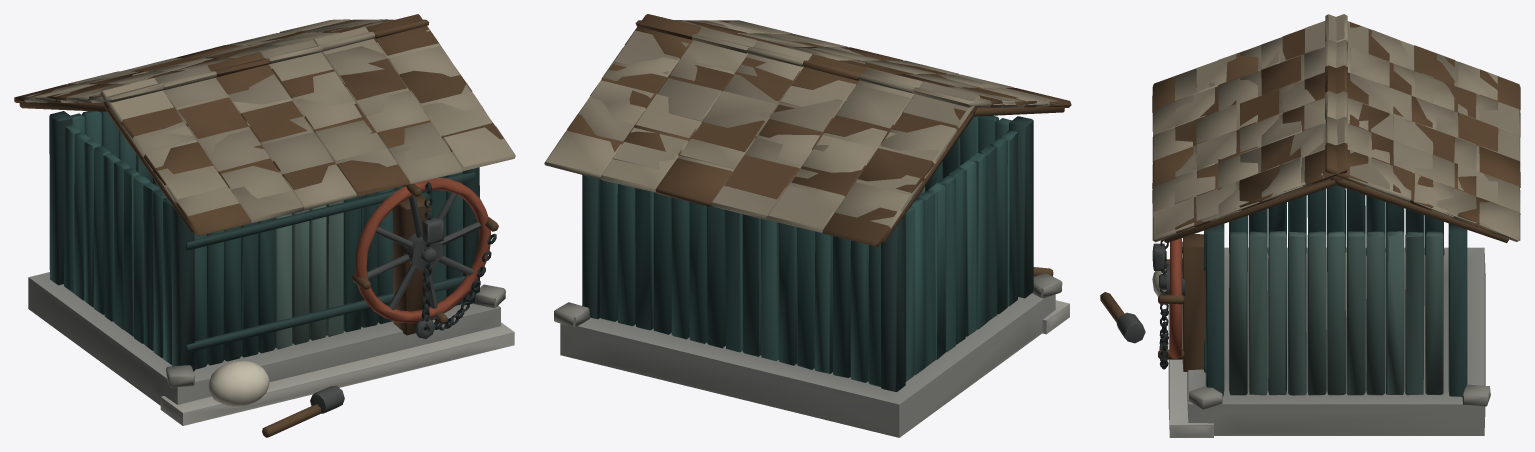
File: gate_wheelhouse_a_lod1.glb
The picture shows the model from 3 angles, left to right: view 1: azimuth 30°, elevation 25°; view 2: azimuth 150°, elevation 25°; view 3: azimuth 270°, elevation 25°; orthographic projection. The views are drawn at different scales.
Parts seen in each view (by area): view 1: Surface.001; view 2: Surface.001; view 3: Surface.001.
Boxes of the visible parts, x1,y1,x2,y2 form: Surface.001: (14,14,515,437); Surface.001: (544,14,1071,437); Surface.001: (1100,14,1520,437).
Bounding box in the file's own units: 7.57 × 5.71 × 8.1.
